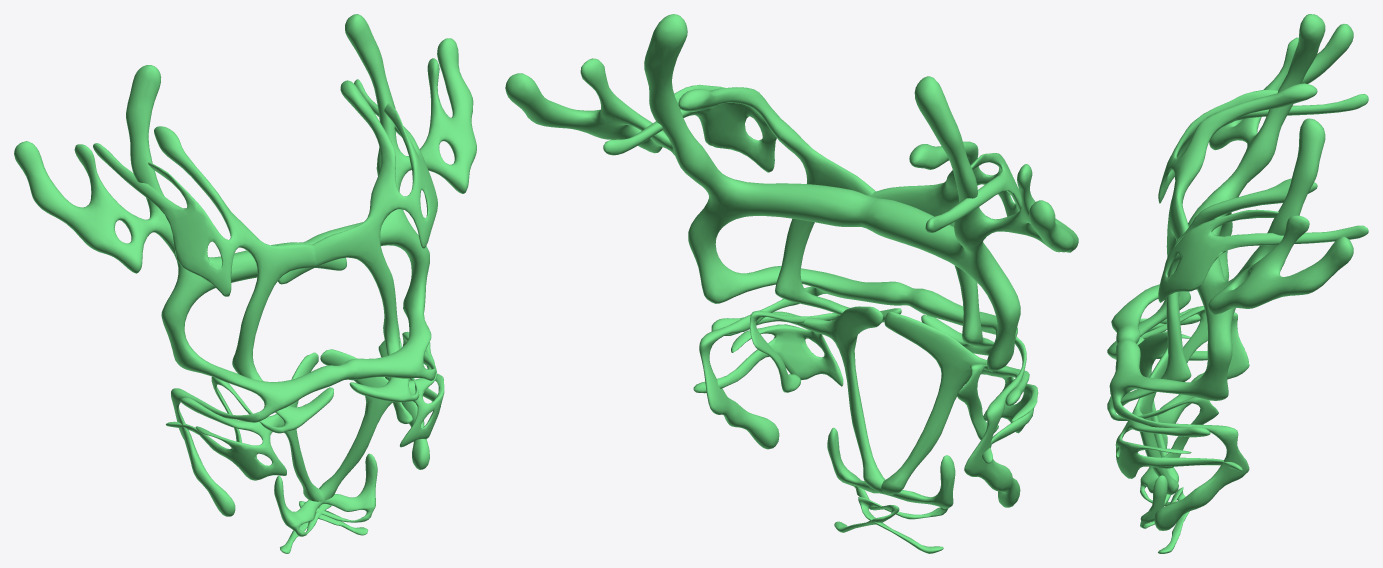
The model's file is greenmask.gltf.
3 renders of one model, left to right at view 1: azimuth 30°, elevation 25°; view 2: azimuth 150°, elevation 25°; view 3: azimuth 270°, elevation 25°, orthographic. The views are drawn at different scales.
Visible parts, largest first — view 1: Green Mask2; view 2: Green Mask2; view 3: Green Mask2.
Part boxes in pixels (box(x1,y1,x2,y2)): Green Mask2: box(14, 14, 476, 553); Green Mask2: box(505, 14, 1078, 553); Green Mask2: box(1107, 14, 1368, 553).
Size of the model in its own units: 4.28 by 4.19 by 2.12.
